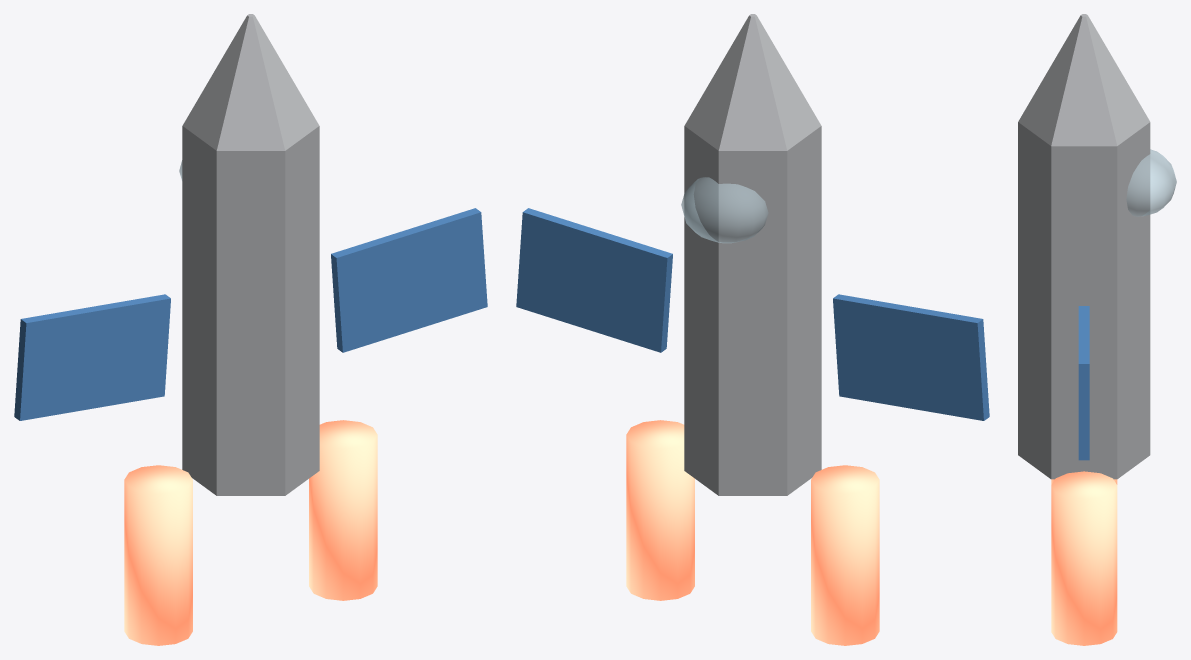
Rendered from test_ship.glb.
3 views of the same model, side by side, from view 1: azimuth 30°, elevation 25°; view 2: azimuth 150°, elevation 25°; view 3: azimuth 270°, elevation 25° (orthographic). The views are drawn at different scales.
Visible parts, largest first — view 1: Fuselage, Wing_L, Wing_R, Engine_R, Engine_L, Nose; view 2: Fuselage, Wing_L, Wing_R, Engine_R, Engine_L, Nose, Cockpit; view 3: Fuselage, Engine_L, Nose, Cockpit, Wing_L.
Part boxes in pixels (left/top/right/bottom): Fuselage: left=182, top=126, right=319, bottom=495; Wing_L: left=331, top=208, right=487, bottom=352; Wing_R: left=14, top=294, right=170, bottom=420; Engine_R: left=124, top=465, right=192, bottom=645; Engine_L: left=309, top=420, right=377, bottom=600; Nose: left=182, top=14, right=319, bottom=150; Fuselage: left=684, top=126, right=821, bottom=495; Wing_L: left=516, top=208, right=672, bottom=352; Wing_R: left=833, top=294, right=989, bottom=420; Engine_R: left=811, top=465, right=879, bottom=645; Engine_L: left=626, top=420, right=694, bottom=600; Nose: left=684, top=14, right=821, bottom=150; Cockpit: left=681, top=177, right=768, bottom=243; Fuselage: left=1018, top=122, right=1150, bottom=479; Engine_L: left=1051, top=471, right=1117, bottom=645; Nose: left=1018, top=14, right=1149, bottom=146; Cockpit: left=1126, top=149, right=1176, bottom=216; Wing_L: left=1078, top=306, right=1089, bottom=460.
Bounding box in the file's own units: 7.09 × 8.6 × 2.16.
